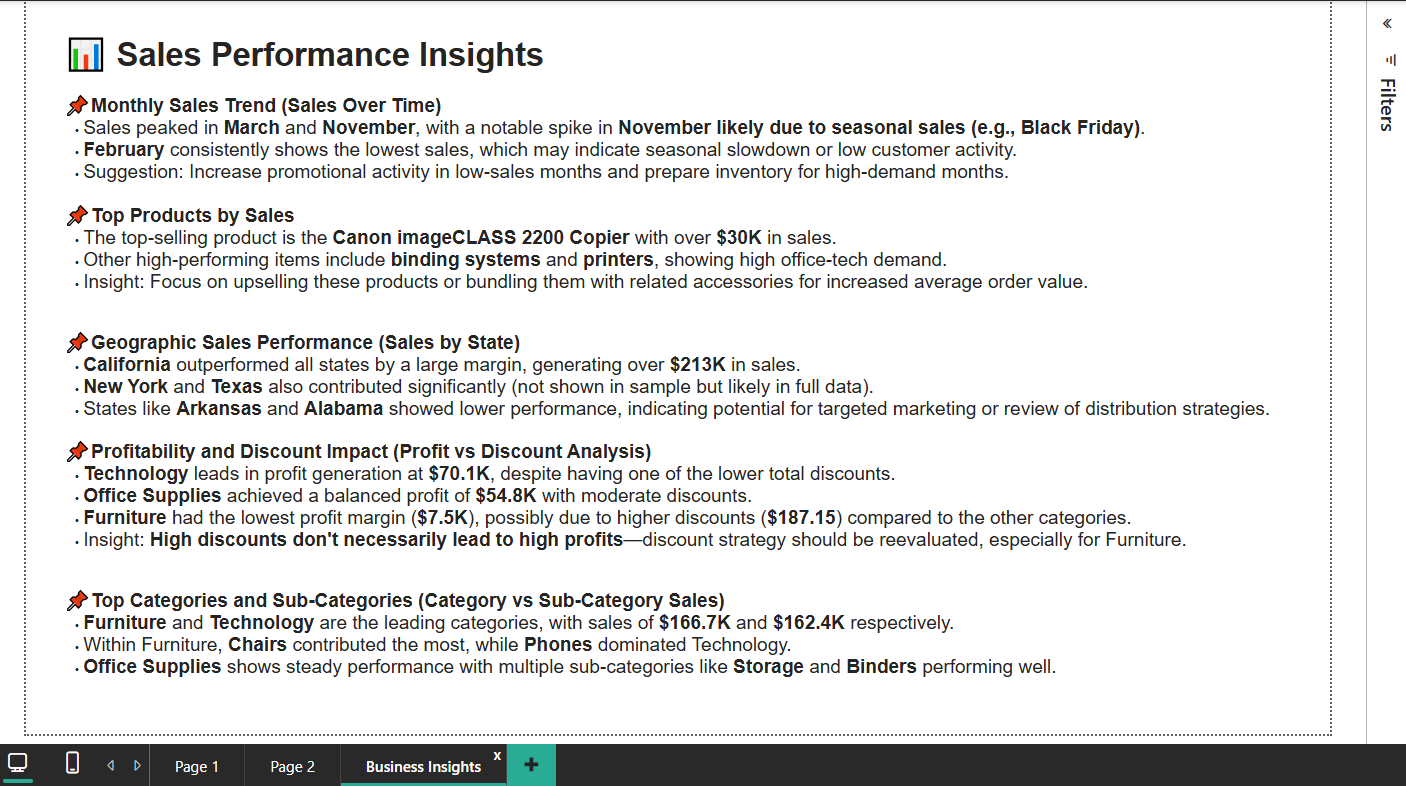

What the dashboard file says about the page in this screenshot:
{"tool":"powerbi","page":{"name":"Business Insights","canvas":[1280,720],"ordinal":2},"visuals":[{"type":"textbox","box":[33.1,24.5,1217.2,679.8],"z":0}]}

Visuals, with their boxes on the page's 1280x720 design canvas (x1, y1, x2, y2). These are canvas units, not pixel positions in the 1406x786 screenshot, which may show the page scaled, cropped or inside an application window:
textbox: {"x1": 33, "y1": 24, "x2": 1250, "y2": 704}
